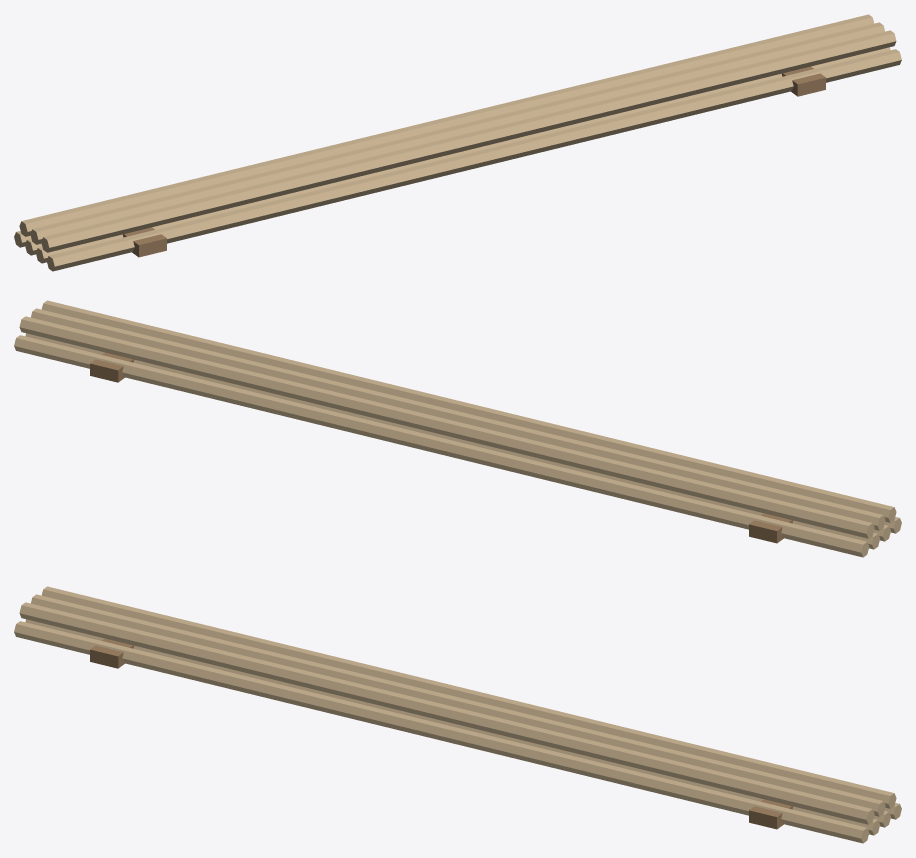
File: prop-sway-rod-stack.fbx
3 views of the same model, one above another, from view 1: azimuth 30°, elevation 25°; view 2: azimuth 150°, elevation 25°; view 3: azimuth 330°, elevation 25° (orthographic).
Parts seen in each view (by area): view 1: prop-sway-rod-stack; view 2: prop-sway-rod-stack; view 3: prop-sway-rod-stack.
Part boxes in pixels (bbox=[...]): prop-sway-rod-stack: bbox=[14, 14, 901, 271]; prop-sway-rod-stack: bbox=[14, 300, 901, 557]; prop-sway-rod-stack: bbox=[14, 586, 901, 843].
Size of the model in its own units: 180 by 5.8 by 18.
